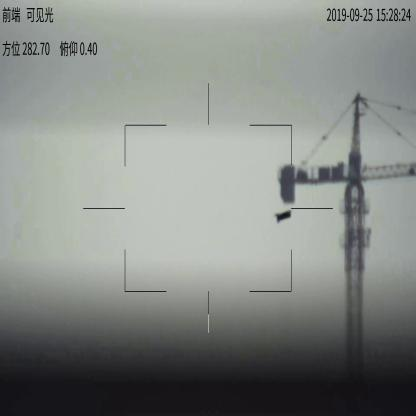uav: (274, 208, 292, 223)
